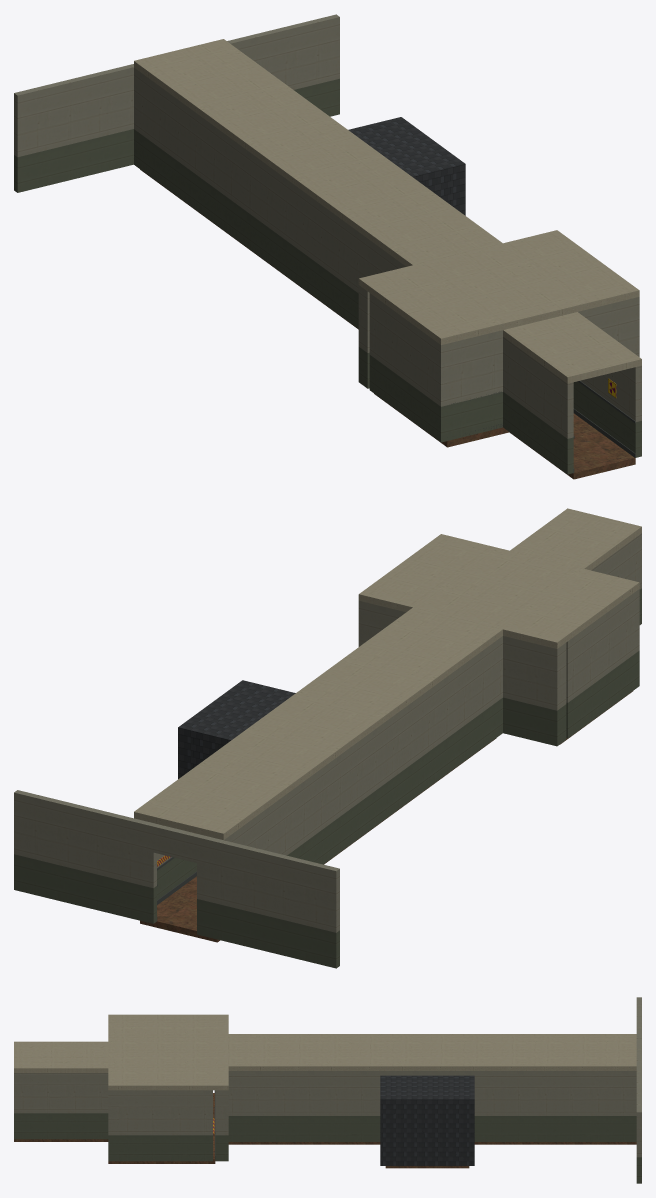
File: hot.glb
3 views of the same model, one above another, from view 1: azimuth 30°, elevation 25°; view 2: azimuth 150°, elevation 25°; view 3: azimuth 270°, elevation 25° (orthographic). The views are drawn at different scales.
Parts seen in each view (by area): view 1: HOT_static; view 2: HOT_static; view 3: HOT_static.
Boxes of the visible parts, x1,y1,x2,y2 form: HOT_static: (14,14,641,479); HOT_static: (14,508,641,968); HOT_static: (14,997,641,1183).
Size of the model in its own units: 10.4 by 3.4 by 24.
22 materials, 10 textured.
